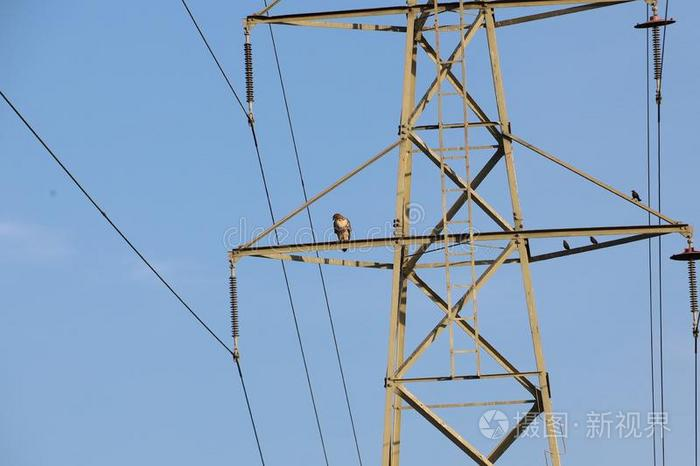insulator: (228, 274, 241, 337), (243, 42, 256, 104), (685, 258, 698, 314), (651, 26, 662, 81)
